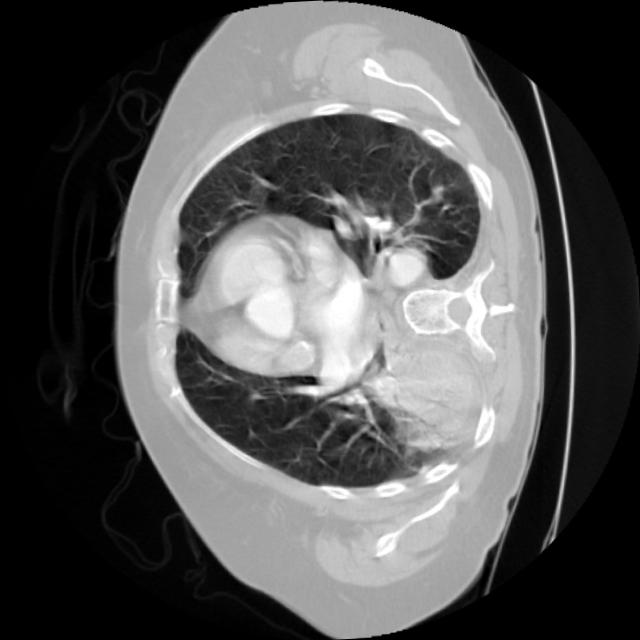nodule: (419, 176, 456, 213)
